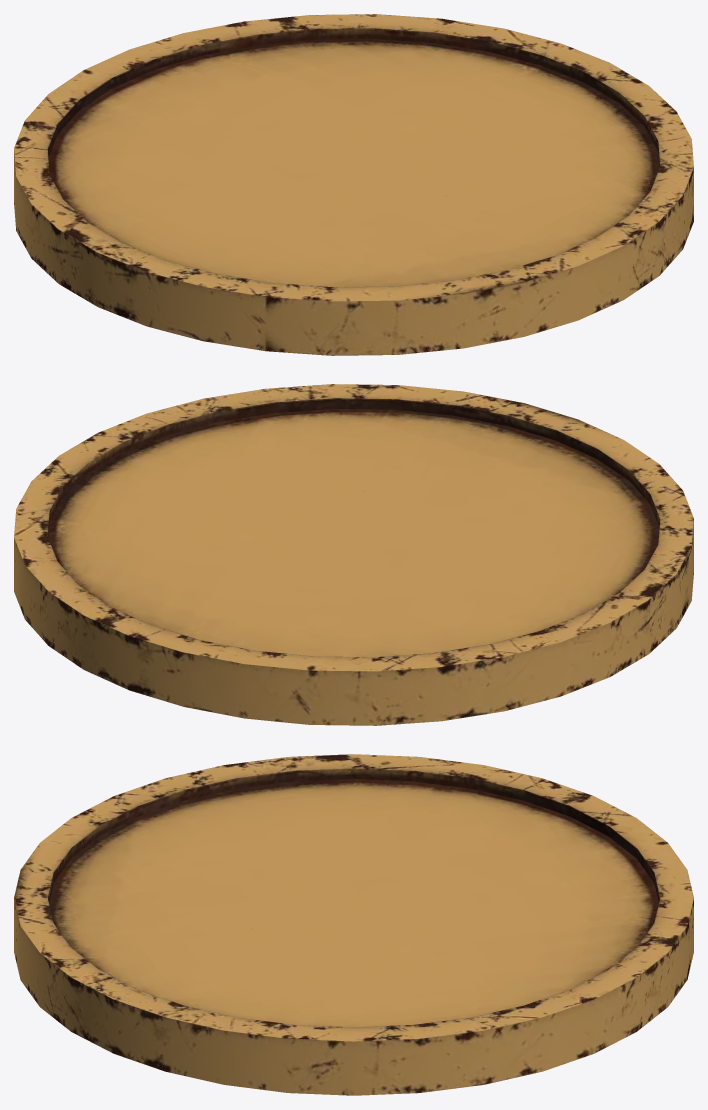
Rendered from coin.glb.
3 views of the same model, one above another, from view 1: azimuth 30°, elevation 25°; view 2: azimuth 150°, elevation 25°; view 3: azimuth 270°, elevation 25° (orthographic).
Visible parts, largest first — view 1: CylinderLP; view 2: CylinderLP; view 3: CylinderLP.
Boxes of the visible parts, x1,y1,x2,y2 form: CylinderLP: (14, 14, 693, 355); CylinderLP: (14, 384, 693, 725); CylinderLP: (14, 754, 693, 1095).
Bounding box in the file's own units: 0.0284 × 0.0025 × 0.0284.
1 material, 1 textured.
